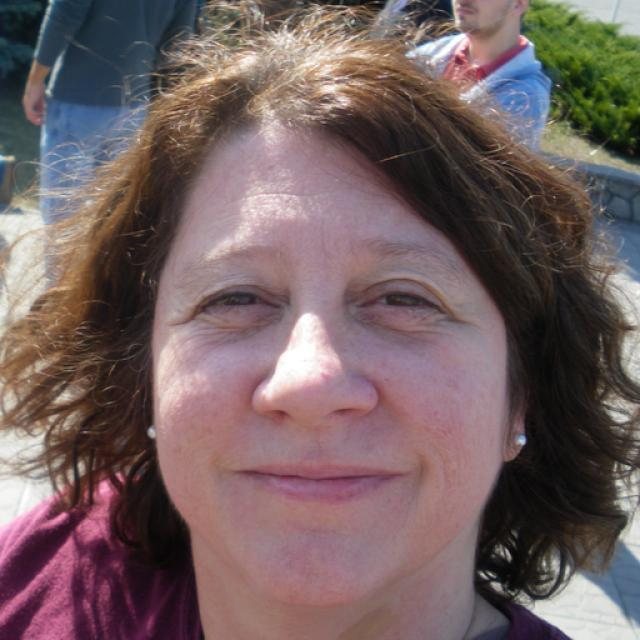happy: (154, 127, 512, 612)
